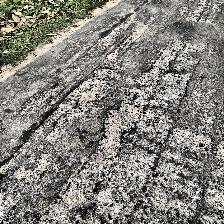pothole: (61, 65, 117, 111), (99, 101, 143, 151)
